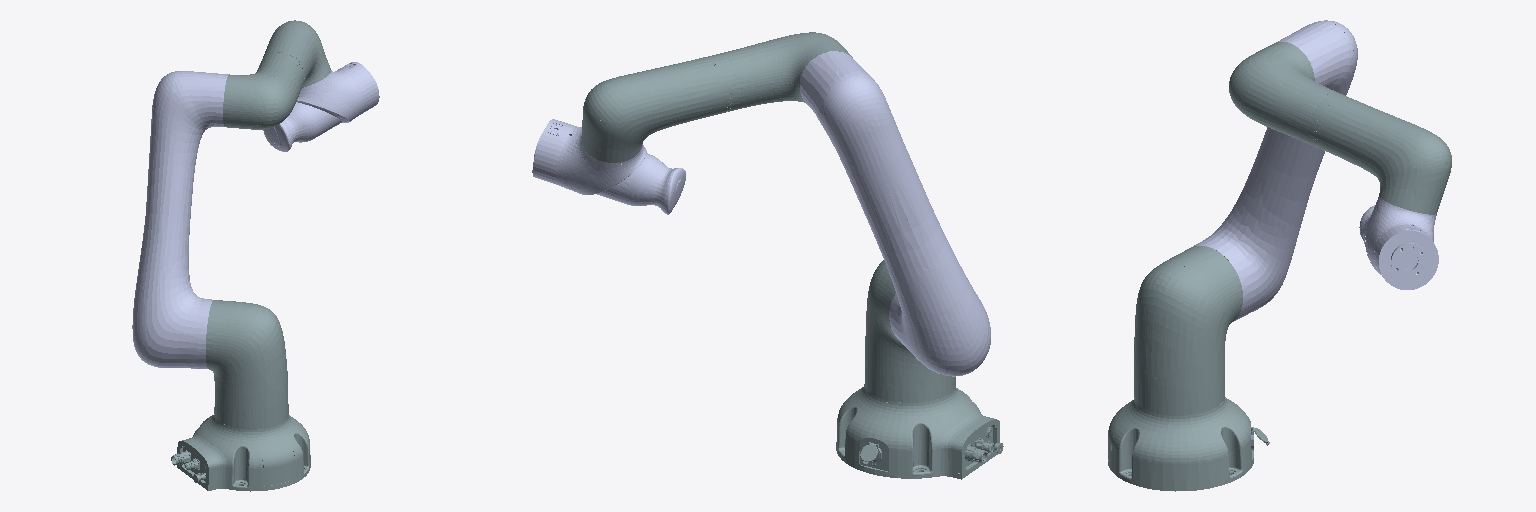
robot.urdf — xmatecr7:
<?xml version="1.0" encoding="utf-8"?>
<!-- This URDF was automatically created by SolidWorks to URDF Exporter! Originally created by Stephen Brawner (brawner@gmail.com) 
     Commit Version: 1.6.0-4-g7f85cfe  Build Version: 1.6.7995.38578
     For more information, please see http://wiki.ros.org/sw_urdf_exporter -->
<robot
  name="xmatecr7">
  <link
    name="base_link0">
    <inertial>
      <origin
        xyz="-0.00504470138217468 -0.000931713927951557 0.0518277080335083"
        rpy="0 0 0" />
      <mass
        value="4.79665805625664" />
      <inertia
        ixx="0.0192951447597582"
        ixy="-1.46437481537965E-05"
        ixz="-0.000315955922152215"
        iyy="0.0227975799155337"
        iyz="-0.000109328239173157"
        izz="0.03195549145641" />
    </inertial>
    <visual>
      <origin
        xyz="0 0 0"
        rpy="0 0 0" />
      <geometry>
        <mesh
          filename="package://xmatecr7/meshes/base_link0.STL" />
      </geometry>
      <material
        name="">
        <color
          rgba="0.592156862745098 0.666666666666667 0.682352941176471 1" />
      </material>
    </visual>
    <collision>
      <origin
        xyz="0 0 0"
        rpy="0 0 0" />
      <geometry>
        <mesh
          filename="package://xmatecr7/meshes/base_link0.STL" />
      </geometry>
    </collision>
  </link>
  <link
    name="yao_link1">
    <inertial>
      <origin
        xyz="-0.00824449462437967 0.00677907790168318 0.119549166943447"
        rpy="0 0 0" />
      <mass
        value="4.49994369092824" />
      <inertia
        ixx="0.0239110357186472"
        ixy="-0.000405292617503143"
        ixz="0.0036639096848855"
        iyy="0.0237405322528393"
        iyz="-0.0029739544034329"
        izz="0.0124936799920512" />
    </inertial>
    <visual>
      <origin
        xyz="0 0 0"
        rpy="0 0 0" />
      <geometry>
        <mesh
          filename="package://xmatecr7/meshes/yao_link1.STL" />
      </geometry>
      <material
        name="">
        <color
          rgba="0.592156862745098 0.666666666666667 0.682352941176471 1" />
      </material>
    </visual>
    <collision>
      <origin
        xyz="0 0 0"
        rpy="0 0 0" />
      <geometry>
        <mesh
          filename="package://xmatecr7/meshes/yao_link1.STL" />
      </geometry>
    </collision>
  </link>
  <joint
    name="yao_joint1"
    type="revolute">
    <origin
      xyz="0 -0.0022607 0.11998"
      rpy="0.018086 0 0" />
    <parent
      link="base_link0" />
    <child
      link="yao_link1" />
    <axis
      xyz="0 0 -1" />
    <limit
      lower="-3.14"
      upper="3.14"
      effort="194"
      velocity="3.1416" />
  </joint>
  <link
    name="dabi_link2">
    <inertial>
      <origin
        xyz="0.0786062843265071 -0.19256417616674 0.176876856514936"
        rpy="0 0 0" />
      <mass
        value="7.29848387531899" />
      <inertia
        ixx="0.205611801800359"
        ixy="0.0775071269848743"
        ixz="-0.000738324523226766"
        iyy="0.0473697277543164"
        iyz="0.00180835331166736"
        izz="0.235745624352104" />
    </inertial>
    <visual>
      <origin
        xyz="0 0 0"
        rpy="0 0 0" />
      <geometry>
        <mesh
          filename="package://xmatecr7/meshes/dabi_link2.STL" />
      </geometry>
      <material
        name="">
        <color
          rgba="0.792156862745098 0.819607843137255 0.933333333333333 1" />
      </material>
    </visual>
    <collision>
      <origin
        xyz="0 0 0"
        rpy="0 0 0" />
      <geometry>
        <mesh
          filename="package://xmatecr7/meshes/dabi_link2.STL" />
      </geometry>
    </collision>
  </link>
  <joint
    name="dabi_joint2"
    type="revolute">
    <origin
      xyz="0 9.0442E-05 0.176"
      rpy="-1.5708 0 0.88919" />
    <parent
      link="yao_link1" />
    <child
      link="dabi_link2" />
    <axis
      xyz="0 0 -1" />
    <limit
      lower="-3.14"
      upper="3.14"
      effort="194"
      velocity="3.1416" />
  </joint>
  <link
    name="xiaobiqian_link3">
    <inertial>
      <origin
        xyz="-0.0395539365679626 -0.0119031896200119 0.152786934561626"
        rpy="0 0 0" />
      <mass
        value="2.08923559602291" />
      <inertia
        ixx="0.00385033197290203"
        ixy="-0.00113605325959543"
        ixz="0.00193369930135884"
        iyy="0.00728440422321935"
        iyz="0.000581790195880701"
        izz="0.00716655751749185" />
    </inertial>
    <visual>
      <origin
        xyz="0 0 0"
        rpy="0 0 0" />
      <geometry>
        <mesh
          filename="package://xmatecr7/meshes/xiaobiqian_link3.STL" />
      </geometry>
      <material
        name="">
        <color
          rgba="0.592156862745098 0.666666666666667 0.682352941176471 1" />
      </material>
    </visual>
    <collision>
      <origin
        xyz="0 0 0"
        rpy="0 0 0" />
      <geometry>
        <mesh
          filename="package://xmatecr7/meshes/xiaobiqian_link3.STL" />
      </geometry>
    </collision>
  </link>
  <joint
    name="xiaobiqian_joint3"
    type="revolute">
    <origin
      xyz="0.18519 -0.45366 0.17"
      rpy="3.1416 0 -2.754" />
    <parent
      link="dabi_link2" />
    <child
      link="xiaobiqian_link3" />
    <axis
      xyz="0 0 -1" />
    <limit
      lower="-3.14"
      upper="3.14"
      effort="102"
      velocity="4.084" />
  </joint>
  <link
    name="xiaobihou_link4">
    <inertial>
      <origin
        xyz="-0.0124944984906736 0.00499062948254075 0.281473762413118"
        rpy="0 0 0" />
      <mass
        value="2.09862685919212" />
      <inertia
        ixx="0.00978126269461928"
        ixy="5.71591559104411E-05"
        ixz="0.00140108553707258"
        iyy="0.00990116658672655"
        iyz="-0.000560295587653278"
        izz="0.00309546799458424" />
    </inertial>
    <visual>
      <origin
        xyz="0 0 0"
        rpy="0 0 0" />
      <geometry>
        <mesh
          filename="package://xmatecr7/meshes/xiaobihou_link4.STL" />
      </geometry>
      <material
        name="">
        <color
          rgba="0.592156862745098 0.666666666666667 0.682352941176471 1" />
      </material>
    </visual>
    <collision>
      <origin
        xyz="0 0 0"
        rpy="0 0 0" />
      <geometry>
        <mesh
          filename="package://xmatecr7/meshes/xiaobihou_link4.STL" />
      </geometry>
    </collision>
  </link>
  <joint
    name="xiaobihou_joint4"
    type="revolute">
    <origin
      xyz="0 0 0.17"
      rpy="1.5708 0 -1.2785" />
    <parent
      link="xiaobiqian_link3" />
    <child
      link="xiaobihou_link4" />
    <axis
      xyz="0 0 -1" />
    <limit
      lower="-3.14"
      upper="3.14"
      effort="60"
      velocity="4.1888" />
  </joint>
  <link
    name="shouwan_link5">
    <inertial>
      <origin
        xyz="0.00634896055528589 -0.00687483831944452 0.138785545111914"
        rpy="0 0 0" />
      <mass
        value="1.71714918039265" />
      <inertia
        ixx="0.00296010514755978"
        ixy="0.000492934514846144"
        ixz="0.000502572891118884"
        iyy="0.00289520409149169"
        iyz="-0.000536748465237372"
        izz="0.00331980698485073" />
    </inertial>
    <visual>
      <origin
        xyz="0 0 0"
        rpy="0 0 0" />
      <geometry>
        <mesh
          filename="package://xmatecr7/meshes/shouwan_link5.STL" />
      </geometry>
      <material
        name="">
        <color
          rgba="0.792156862745098 0.819607843137255 0.933333333333333 1" />
      </material>
    </visual>
    <collision>
      <origin
        xyz="0 0 0"
        rpy="0 0 0" />
      <geometry>
        <mesh
          filename="package://xmatecr7/meshes/shouwan_link5.STL" />
      </geometry>
    </collision>
  </link>
  <joint
    name="shouwan_joint5"
    type="revolute">
    <origin
      xyz="0 0 0.36"
      rpy="1.5708 0 -1.9508" />
    <parent
      link="xiaobihou_link4" />
    <child
      link="shouwan_link5" />
    <axis
      xyz="0 0 -1" />
    <limit
      lower="-3.14"
      upper="3.14"
      effort="60"
      velocity="4.1888" />
  </joint>
  <link
    name="shuchufalan_link6">
    <inertial>
      <origin
        xyz="-1.32816952427561E-05 0.000163995464025235 -0.028368146671532"
        rpy="0 0 0" />
      <mass
        value="0.403264790990843" />
      <inertia
        ixx="0.000338471478589331"
        ixy="-2.72738921505438E-07"
        ixz="3.51662370450701E-08"
        iyy="0.000341817028629875"
        iyz="-4.34214762176968E-07"
        izz="0.000524924288588026" />
    </inertial>
    <visual>
      <origin
        xyz="0 0 0"
        rpy="0 0 0" />
      <geometry>
        <mesh
          filename="package://xmatecr7/meshes/shuchufalan_link6.STL" />
      </geometry>
      <material
        name="">
        <color
          rgba="0.792156862745098 0.819607843137255 0.933333333333333 1" />
      </material>
    </visual>
    <collision>
      <origin
        xyz="0 0 0"
        rpy="0 0 0" />
      <geometry>
        <mesh
          filename="package://xmatecr7/meshes/shuchufalan_link6.STL" />
      </geometry>
    </collision>
  </link>
  <joint
    name="shuchufalan_joint6"
    type="revolute">
    <origin
      xyz="-0.086813 0.092696 0.15"
      rpy="1.5708 0 -2.389" />
    <parent
      link="shouwan_link5" />
    <child
      link="shuchufalan_link6" />
    <axis
      xyz="0 0 1" />
    <limit
      lower="-3.14"
      upper="3.14"
      effort="60"
      velocity="4.1888" />
  </joint>
</robot>

--- Render facts (derived) ---
The picture shows the robot from 3 angles, left to right: view 1: azimuth 30°, elevation 25°; view 2: azimuth 150°, elevation 25°; view 3: azimuth 270°, elevation 25°; orthographic projection.
Model xmatecr7 with 7 links and 6 joints (6 revolute), rooted at base_link0, posed every joint at zero.
Visible links, largest first — view 1: dabi_link2, yao_link1, base_link0, xiaobiqian_link3, shouwan_link5, xiaobihou_link4, shuchufalan_link6; view 2: dabi_link2, base_link0, xiaobihou_link4, yao_link1, shouwan_link5, xiaobiqian_link3, shuchufalan_link6; view 3: yao_link1, dabi_link2, base_link0, xiaobihou_link4, xiaobiqian_link3, shuchufalan_link6, shouwan_link5.
Boxes of the visible links, box(x1,y1,x2,y2) form: dabi_link2: box(132, 71, 228, 368); yao_link1: box(206, 300, 288, 429); base_link0: box(171, 414, 310, 491); xiaobiqian_link3: box(223, 57, 302, 129); shouwan_link5: box(263, 70, 363, 151); xiaobihou_link4: box(259, 20, 330, 87); shuchufalan_link6: box(337, 62, 379, 113); dabi_link2: box(800, 51, 990, 376); base_link0: box(836, 384, 1003, 479); xiaobihou_link4: box(582, 53, 738, 162); yao_link1: box(865, 260, 955, 402); shouwan_link5: box(556, 126, 685, 214); xiaobiqian_link3: box(724, 32, 852, 109); shuchufalan_link6: box(532, 119, 575, 184); yao_link1: box(1134, 246, 1242, 415); dabi_link2: box(1193, 20, 1357, 321); base_link0: box(1108, 397, 1269, 491); xiaobihou_link4: box(1308, 92, 1451, 214); xiaobiqian_link3: box(1229, 42, 1335, 144); shuchufalan_link6: box(1374, 225, 1438, 289); shouwan_link5: box(1359, 197, 1436, 274).
Size in the robot's own frame: 0.7205 by 0.587 by 0.8121 metres.
7 mesh visuals loaded from 7 distinct referenced files (7 binary STL).
